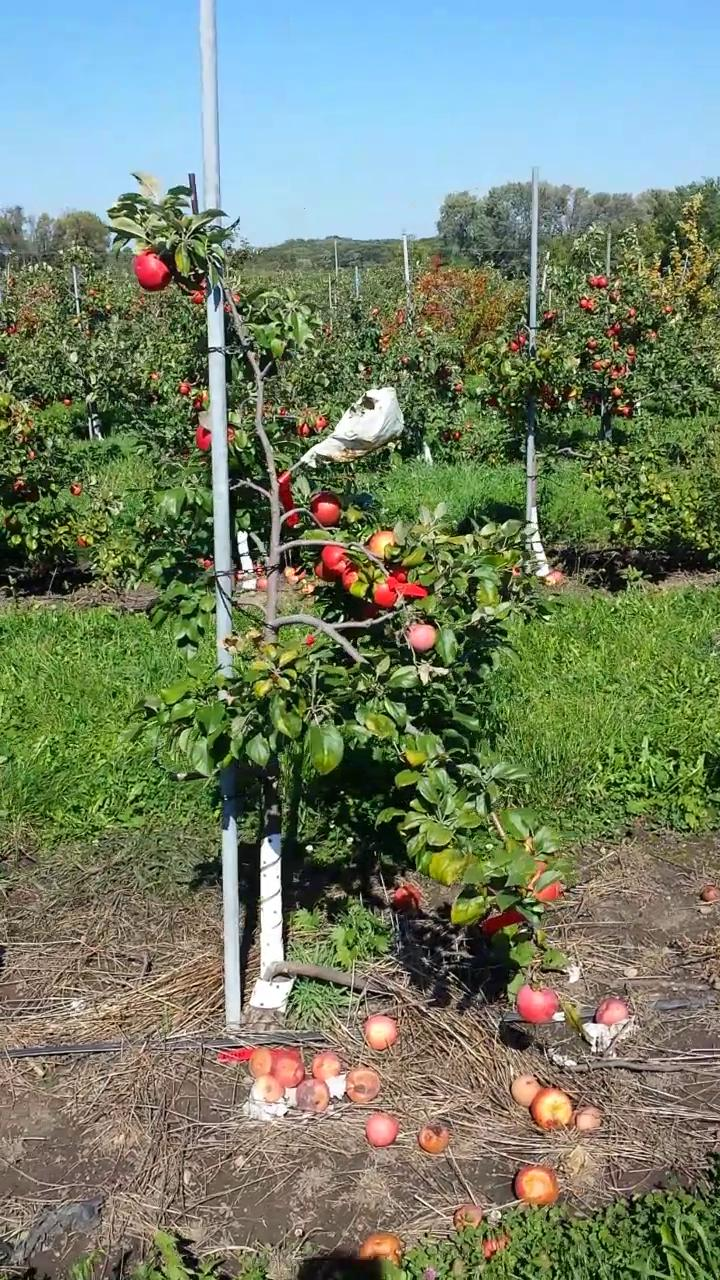Apple: (129, 245, 177, 289), (519, 859, 563, 906), (480, 907, 527, 950), (183, 415, 239, 449), (175, 254, 213, 300), (517, 978, 556, 1022), (320, 540, 359, 581), (362, 527, 405, 560), (401, 618, 436, 657), (307, 493, 346, 527), (352, 591, 384, 620), (371, 575, 397, 608), (342, 564, 367, 594), (312, 556, 338, 584), (387, 563, 414, 589), (215, 290, 240, 314)
